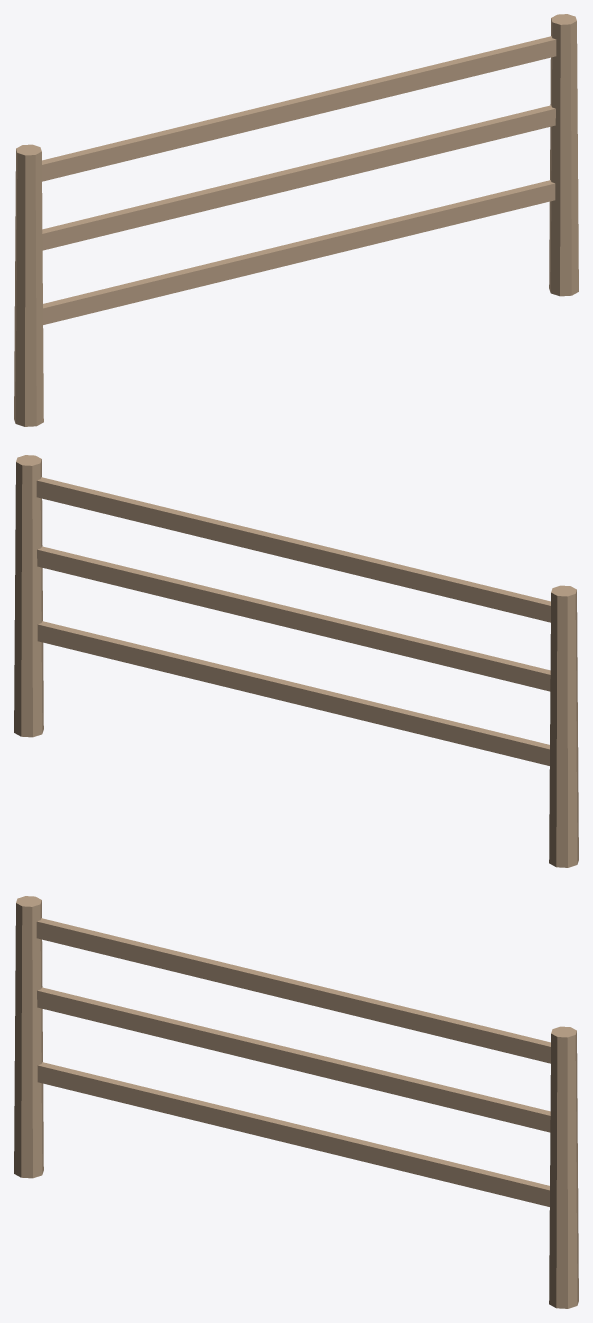
Rendered from post-and-rail-fence-straight.glb.
3 views of the same model, one above another, from view 1: azimuth 30°, elevation 25°; view 2: azimuth 150°, elevation 25°; view 3: azimuth 330°, elevation 25° (orthographic).
Parts seen in each view (by area): view 1: fence-rail-straight; view 2: fence-rail-straight; view 3: fence-rail-straight.
Boxes of the visible parts, x1=… form: fence-rail-straight: x1=14, y1=14, x2=578, y2=426; fence-rail-straight: x1=14, y1=455, x2=578, y2=867; fence-rail-straight: x1=14, y1=896, x2=578, y2=1308.
Bounding box in the file's own units: 3.15 × 1.45 × 0.15.
